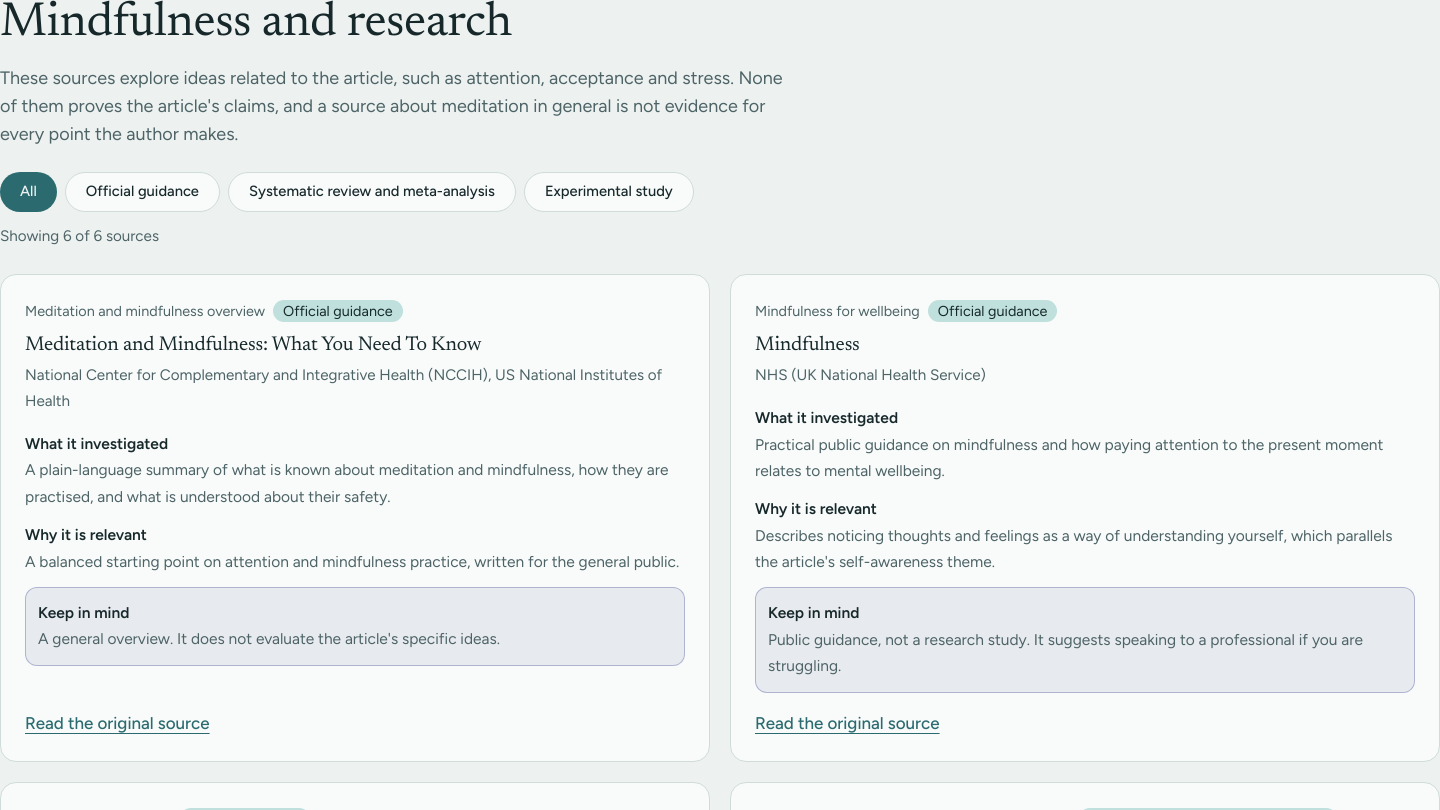
Scenario: Research page › filters by source type
This screenshot has width=1440, height=810.
Click the button "Experimental study" at (609, 192), box [524, 172, 694, 212]
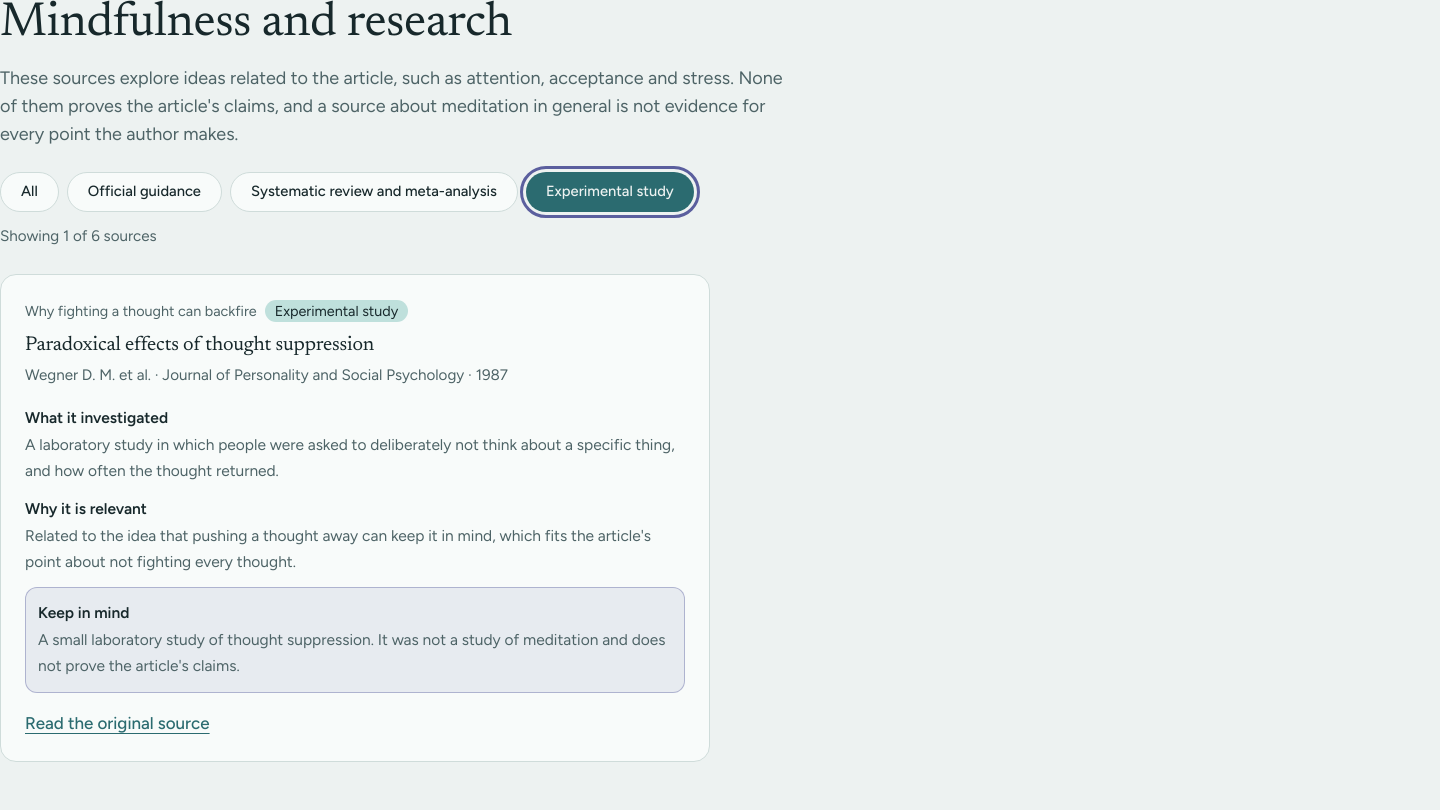
Expected: the number of links "Read the original source" is 1, [25, 712, 210, 732]
